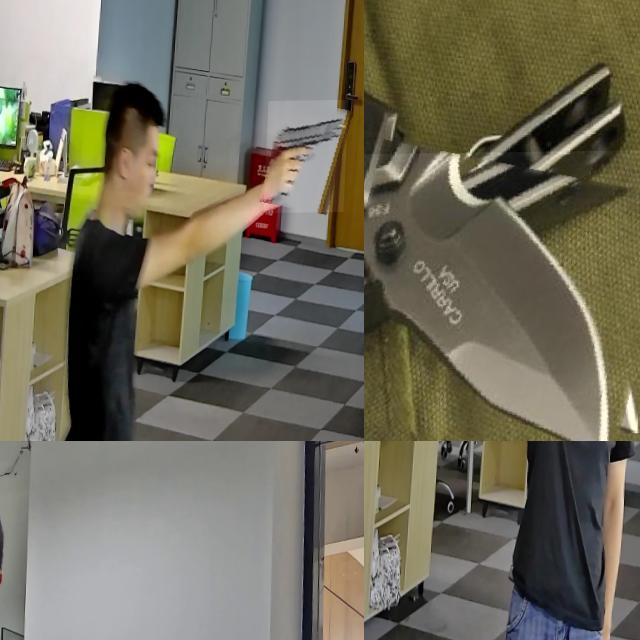-: (364, 151, 640, 441)
gun-knife-thesis - v11 Yolov5 augmented: (266, 102, 351, 215), (0, 441, 56, 545), (567, 441, 607, 490)
